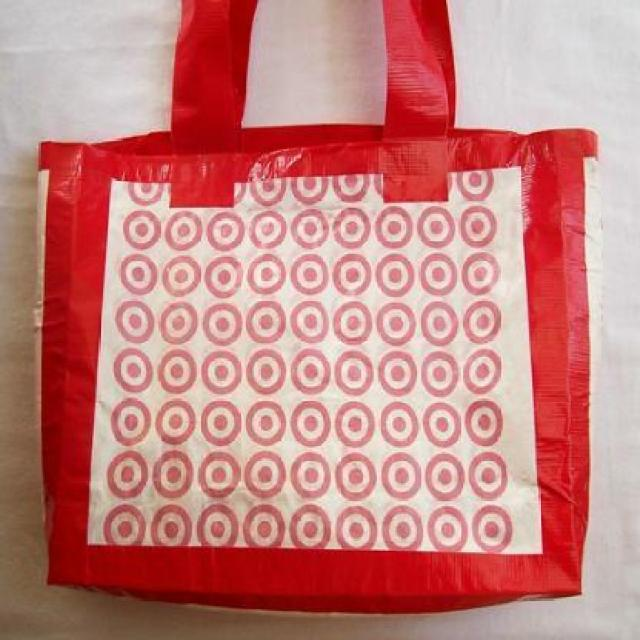plastic bag: (29, 0, 594, 617)
